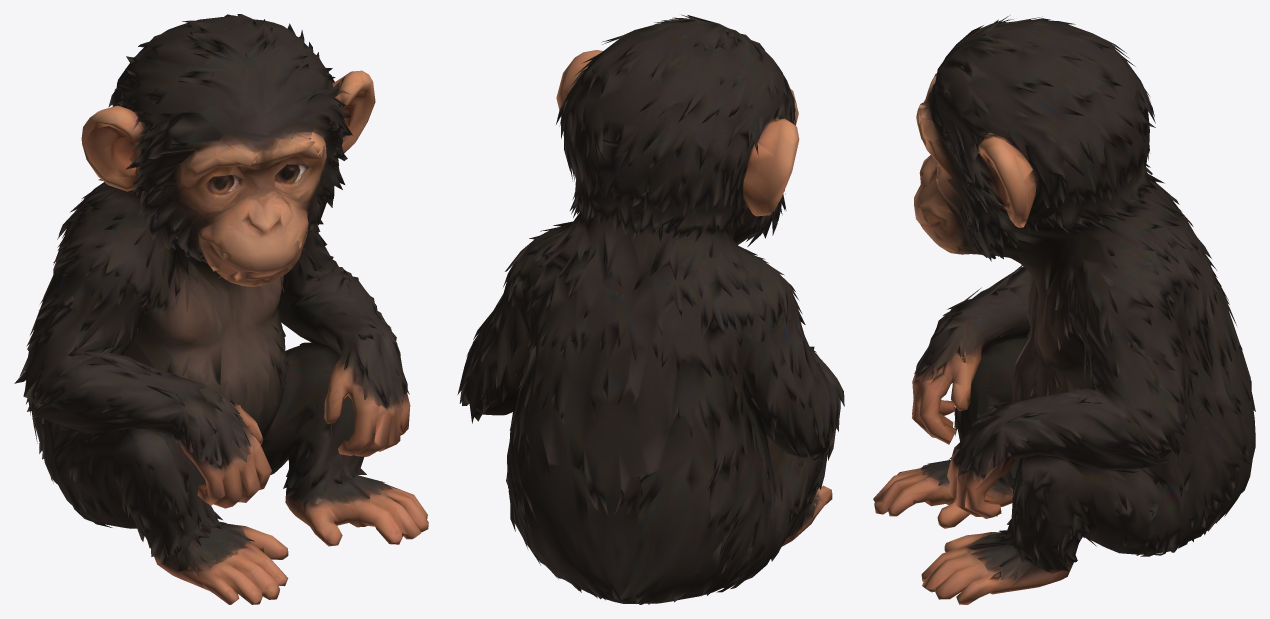
File: ham.glb
The picture shows the model from 3 angles, left to right: view 1: azimuth 30°, elevation 25°; view 2: azimuth 150°, elevation 25°; view 3: azimuth 270°, elevation 25°; orthographic projection.
Parts seen in each view (by area): view 1: tripo_node_25778e0f-94a6-4a4f-a25d-2ab8b07f9054; view 2: tripo_node_25778e0f-94a6-4a4f-a25d-2ab8b07f9054; view 3: tripo_node_25778e0f-94a6-4a4f-a25d-2ab8b07f9054.
Boxes of the visible parts, bbox=[...] form: tripo_node_25778e0f-94a6-4a4f-a25d-2ab8b07f9054: bbox=[14, 14, 428, 604]; tripo_node_25778e0f-94a6-4a4f-a25d-2ab8b07f9054: bbox=[457, 14, 844, 604]; tripo_node_25778e0f-94a6-4a4f-a25d-2ab8b07f9054: bbox=[873, 15, 1255, 604].
Size of the model in its own units: 0.7055 by 0.9992 by 0.6868.
Materials: 1 (1 with a texture image).
